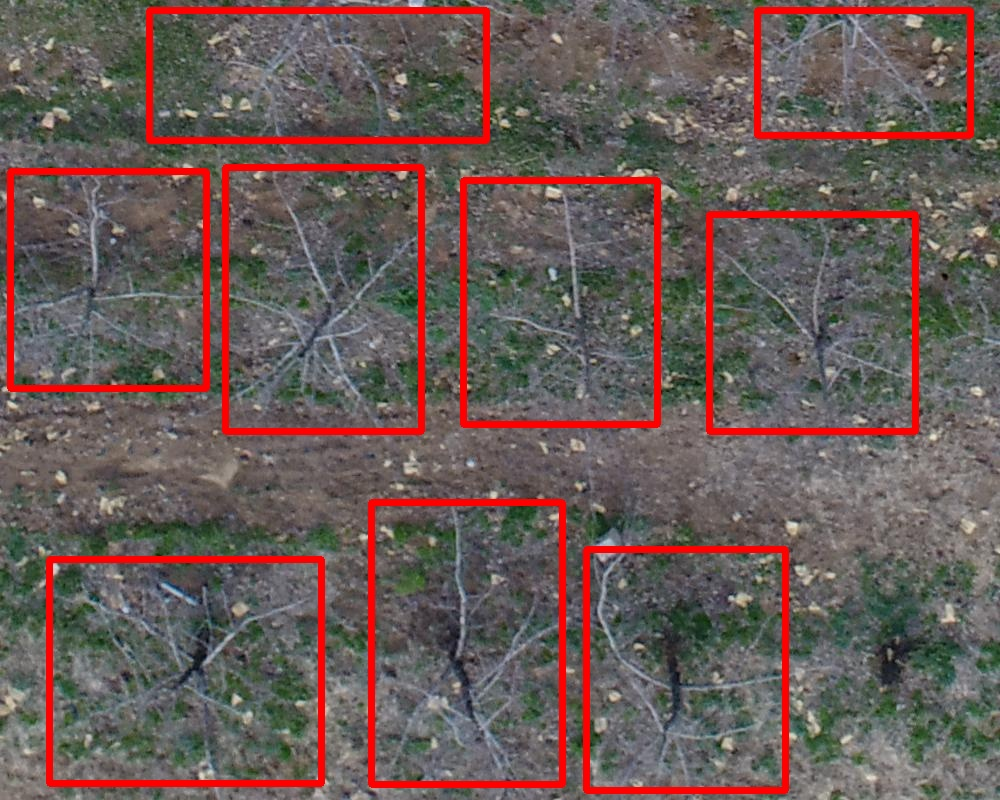apple: (49, 559, 321, 783), (371, 502, 562, 784), (225, 167, 421, 431), (586, 549, 785, 790), (463, 180, 657, 424), (709, 214, 915, 431), (149, 10, 486, 140), (10, 171, 206, 388), (757, 10, 970, 135)
